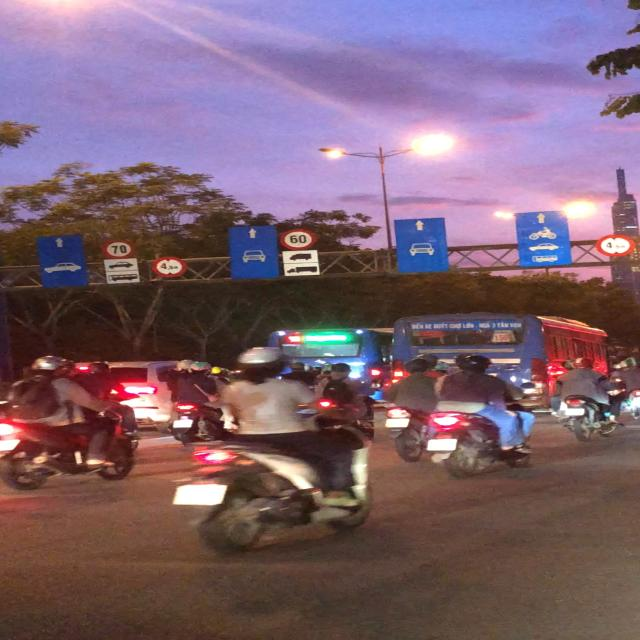Bien bao han che chieu cao: (593, 233, 637, 260), (149, 252, 189, 278)
Bien bao toc do toi da cho phep: (276, 226, 318, 250), (99, 237, 139, 261)
